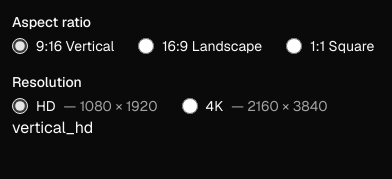
VideoFormatPicker › 16:9 shows only 16:9 resolutions and 4K selects landscape_4k
The image size is (392, 179).
Click the radio button labelled "16:9 Landscape". click: (146, 46)
box: [138, 38, 154, 54]
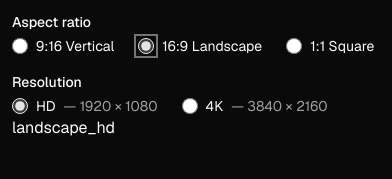
Result: the text with test id "value" reads "landscape_hd" at [12, 117, 115, 138]
Click the radio button labelled "4K — 3840 × 2160". click: (190, 106)
box: [182, 98, 198, 114]
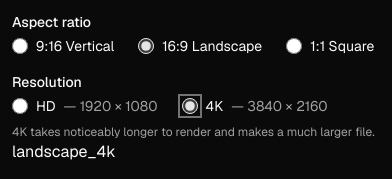
Result: the text with test id "value" reads "landscape_4k" at [12, 141, 116, 162]
Result: the text with test id "video-format-4k-note" is shown at [12, 124, 375, 140]
